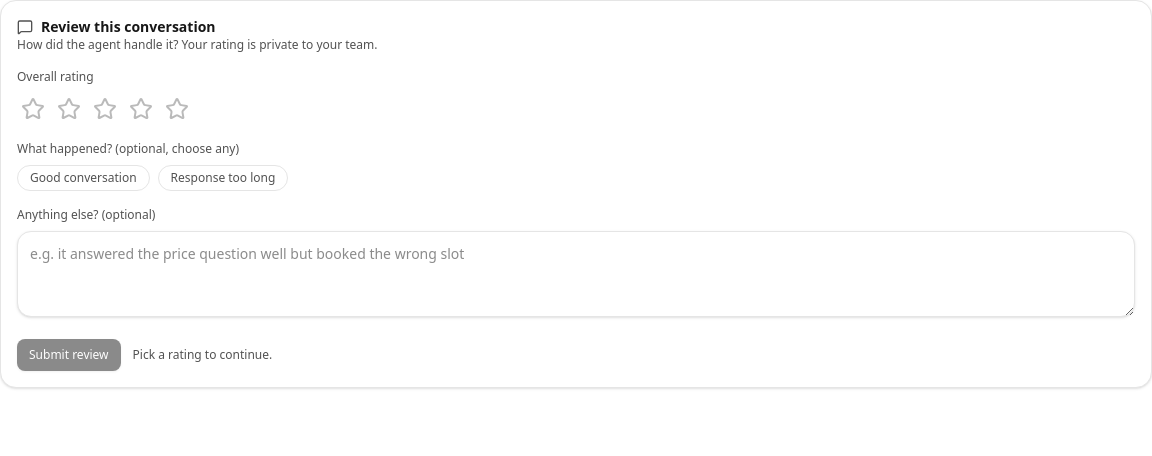
a 403 on submit does not offer a Try again that would be refused identically
What coordinates should you click on to do the following:
click the radio button named "4 out of 5"
I would click on:
 (141, 109)
Its box is [125,93,157,125].
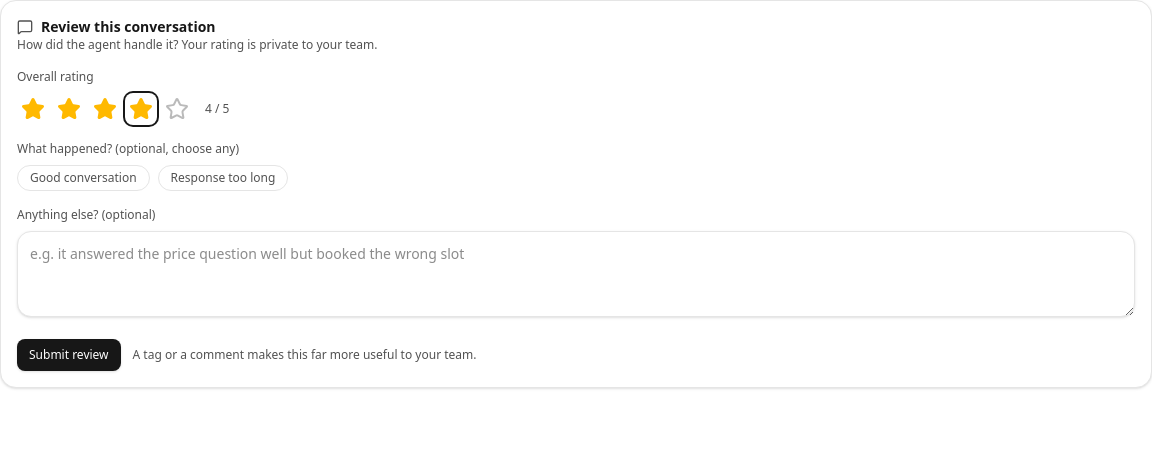
What coordinates should you click on to do the following:
click the button "Submit review"
I would click on:
 (69, 355)
Its box is [17,339,121,371].
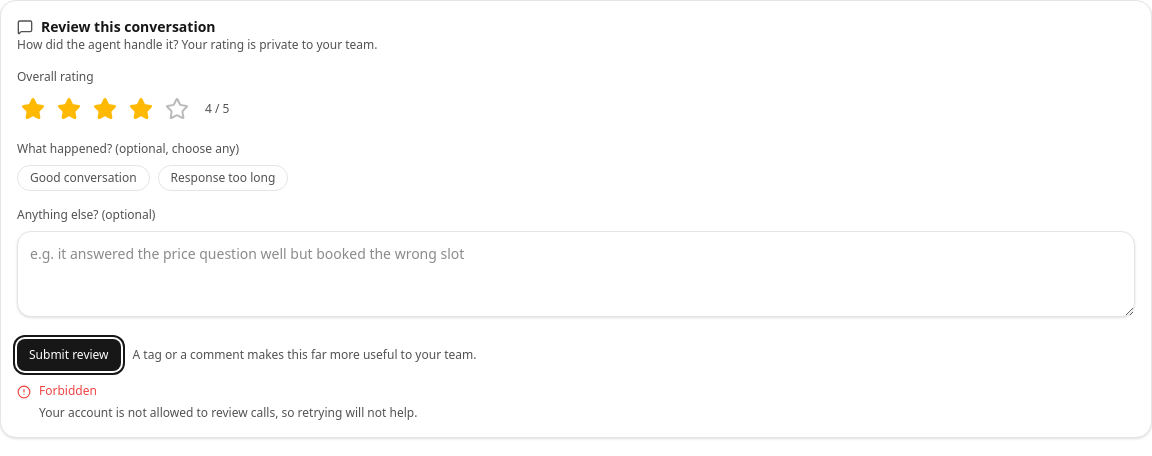
Expected: the text "not allowed to review calls, so retrying will not help" is shown, [39,404,417,421]
